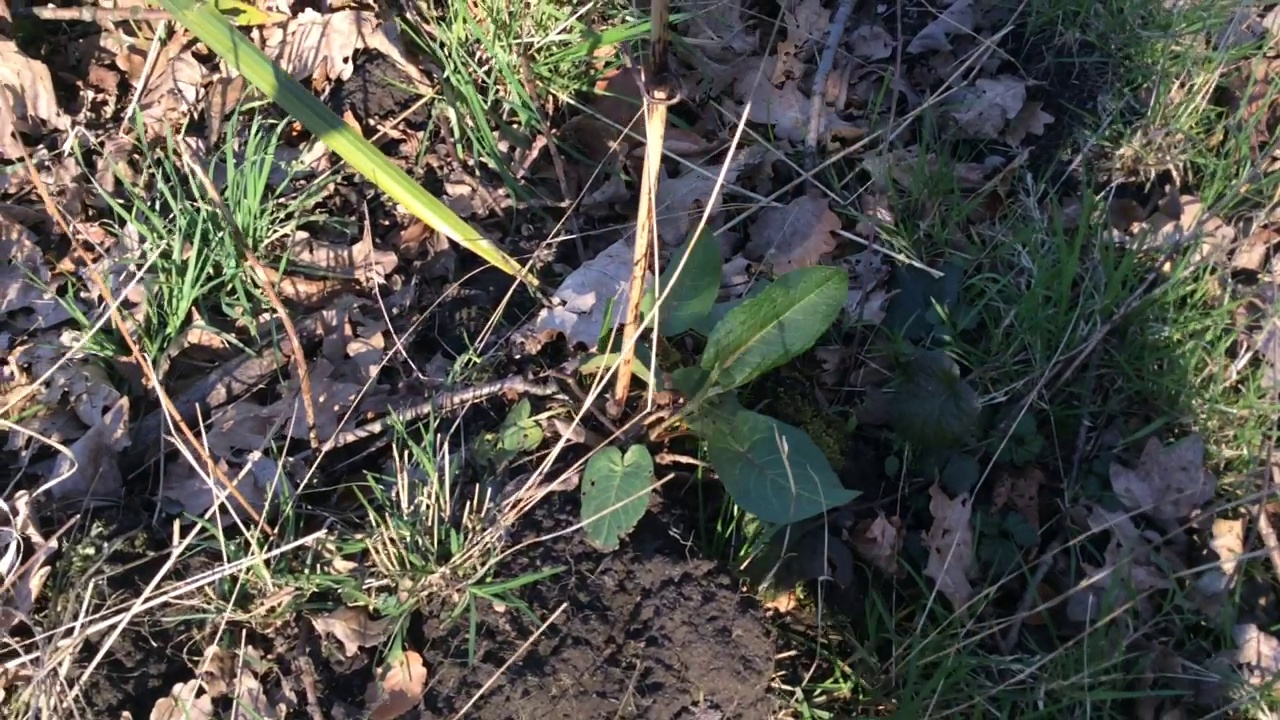rumex: (501, 228, 858, 553)
